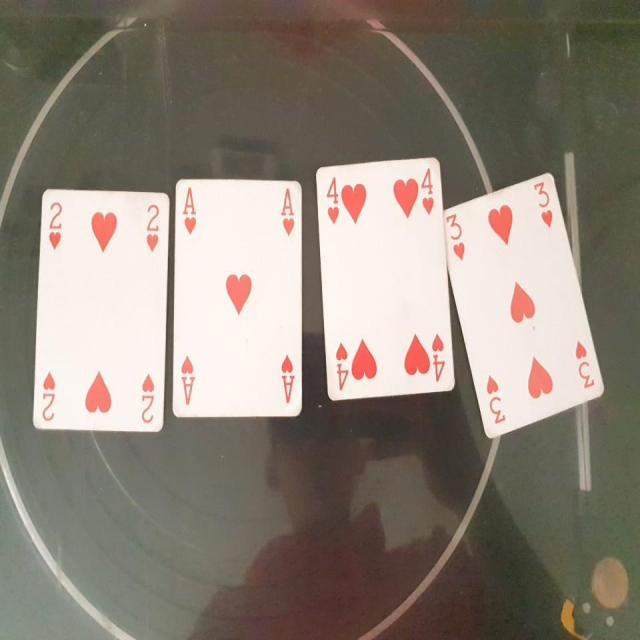2 Hearts: (27, 184, 174, 439)
3 Hearts: (442, 169, 611, 451)
4 Hearts: (313, 147, 456, 407)
A Hearts: (170, 169, 308, 419)
